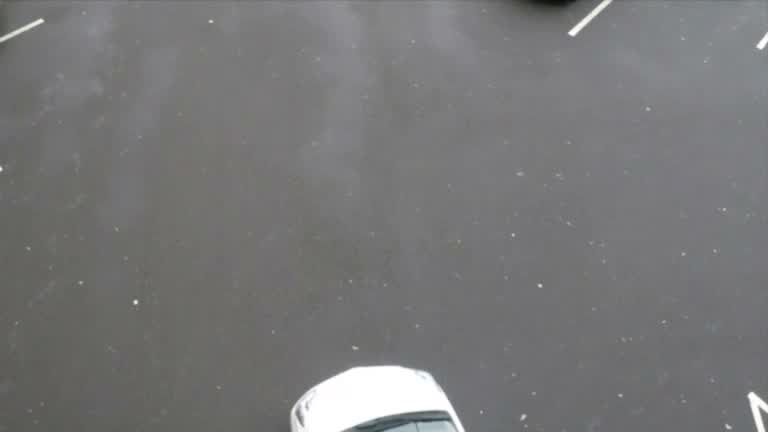car: (274, 343, 500, 432)
